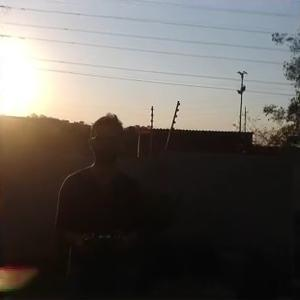follow: (48, 108, 147, 299)
